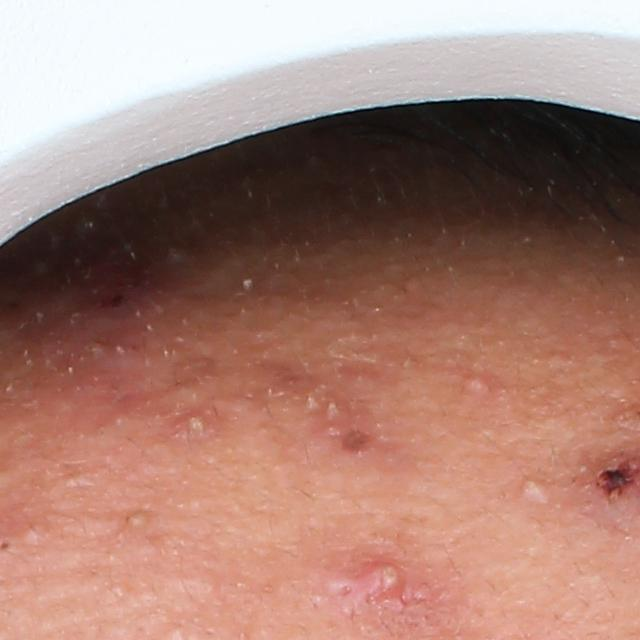comedo: (509, 474, 553, 501), (124, 506, 148, 536)
pustule: (340, 554, 422, 629), (165, 400, 219, 452)
